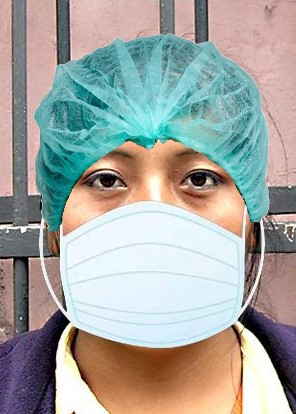with_mask_and_cap: (40, 40, 267, 347)
